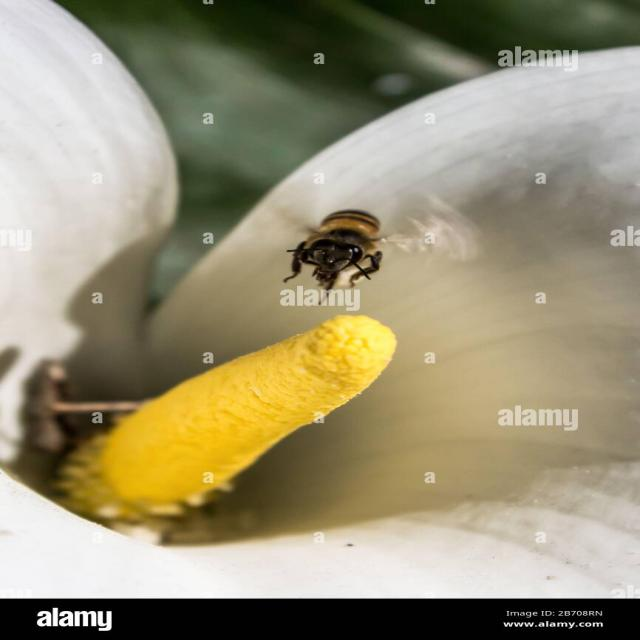Apis-mellifera-scutellata: (262, 172, 412, 316)
